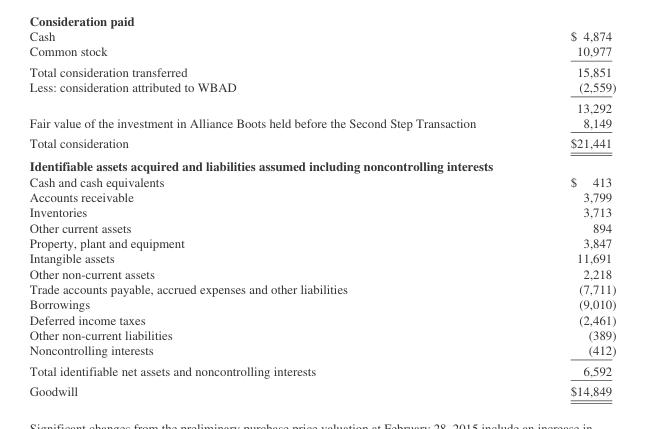table: (28, 28, 615, 397)
table column: (28, 28, 522, 397), (522, 28, 615, 397)
table projected row header: (28, 154, 615, 173)
table row: (28, 132, 615, 154), (28, 360, 615, 380), (28, 154, 615, 173), (28, 43, 615, 61), (28, 61, 615, 79), (28, 96, 615, 114), (28, 114, 615, 132), (28, 342, 615, 360), (28, 79, 615, 96), (28, 380, 615, 397), (28, 188, 615, 204), (28, 234, 615, 250), (28, 280, 615, 296), (28, 326, 615, 342), (28, 28, 615, 43), (28, 173, 615, 188), (28, 204, 615, 219), (28, 219, 615, 234), (28, 250, 615, 265), (28, 265, 615, 280), (28, 296, 615, 311), (28, 311, 615, 326)
